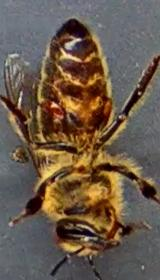varroa_mite: (30, 86, 80, 134), (88, 88, 112, 116)
